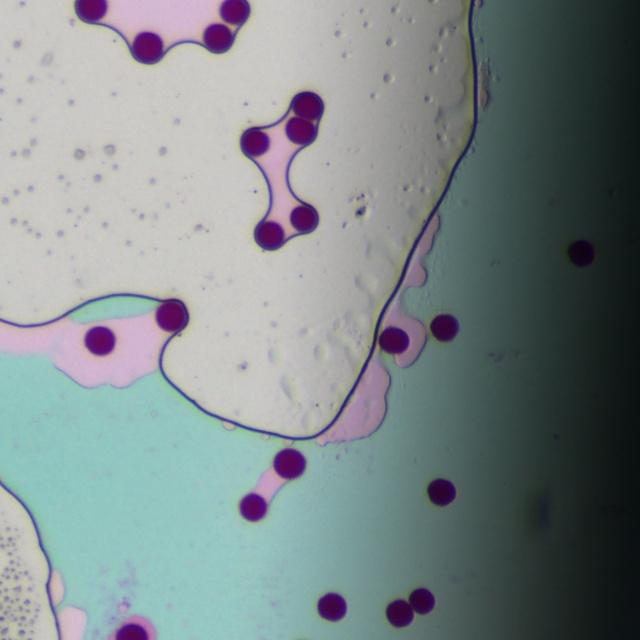viable: (132, 32, 163, 63), (156, 300, 187, 330), (274, 449, 305, 478), (317, 592, 346, 621), (85, 326, 114, 355), (203, 24, 232, 52), (293, 92, 323, 119), (379, 326, 408, 353), (286, 117, 315, 144), (290, 205, 318, 232), (239, 493, 266, 521), (255, 222, 283, 249), (428, 478, 455, 505), (431, 314, 458, 340), (241, 129, 268, 155), (568, 239, 594, 266), (220, 0, 249, 24), (387, 600, 413, 626), (75, 0, 107, 21), (409, 588, 434, 614), (116, 623, 148, 639)
